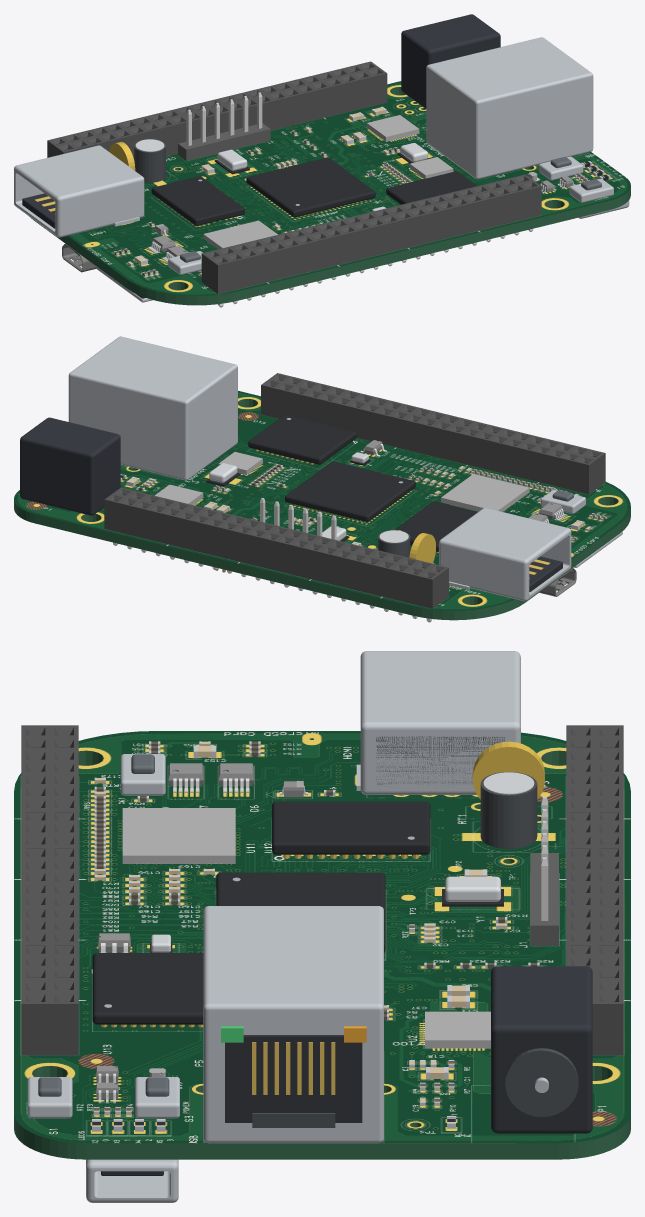
Rendered from full-board.glb.
The picture shows the model from 3 angles, top to bottom: view 1: azimuth 30°, elevation 25°; view 2: azimuth 150°, elevation 25°; view 3: azimuth 270°, elevation 25°; orthographic projection. The views are drawn at different scales.
Visible parts, largest first — view 1: Box0, P5, P8, P9, P3, U5, P1, J1, U12, U13, C34, U11 (+9 smaller); view 2: Box0, P5, P9, P8, P3, P1, U5, U13, U11, U12, J1, C34 (+6 smaller); view 3: Box0, P5, P3, P8, P1, P9, U12, U13, U11, U5, C34, P4 (+9 smaller).
Boxes of the visible parts, x1,y1,x2,y2 form: Box0: (29,81,630,305); P5: (426,37,593,179); P8: (201,174,541,307); P9: (47,61,387,158); P3: (14,145,144,237); U5: (246,157,375,217); P1: (401,14,500,108); J1: (178,92,270,161); U12: (151,176,244,226); U13: (386,171,476,204); C34: (134,139,165,182); U11: (203,220,277,249); Box0: (14,391,630,620); P5: (68,336,237,480); P9: (104,487,448,622); P8: (261,373,605,494); P3: (439,508,571,601); P1: (20,417,120,515); U5: (285,461,415,522); U13: (248,415,356,464); U11: (441,474,529,511); U12: (395,501,477,552); J1: (260,498,336,539); C34: (378,530,410,557); Box0: (14,731,630,1159); P5: (203,906,383,1143); P3: (356,651,520,794); P8: (21,725,78,1055); P1: (491,966,592,1133); P9: (566,725,623,1055); U12: (272,801,430,858); U13: (92,953,203,1027); U11: (122,808,235,863); U5: (216,872,385,952); C34: (480,772,537,848); P4: (86,1159,178,1202).
Size of the model in its own units: 89.27 by 19.6 by 54.64.
33 materials, 2 textured.
